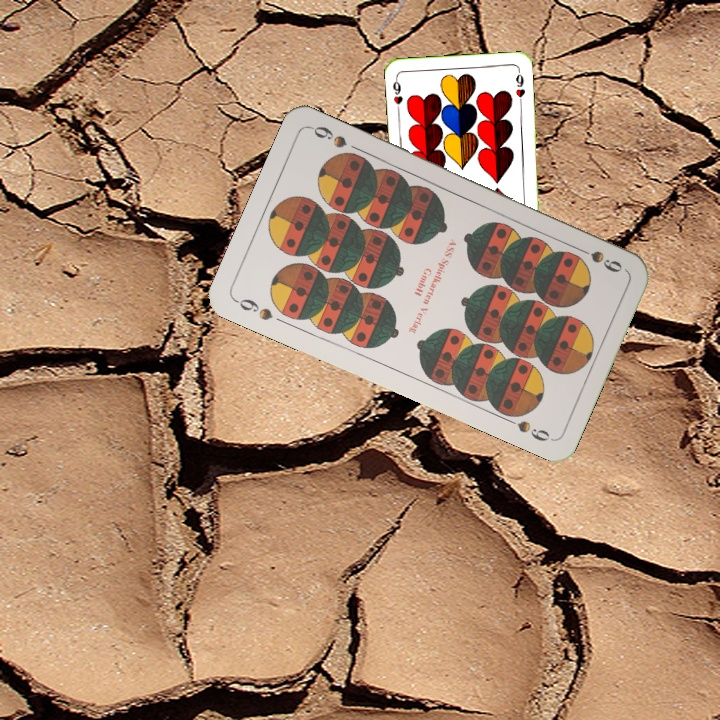H9: (389, 73, 405, 114)
S9: (570, 242, 625, 275), (231, 294, 276, 323)
